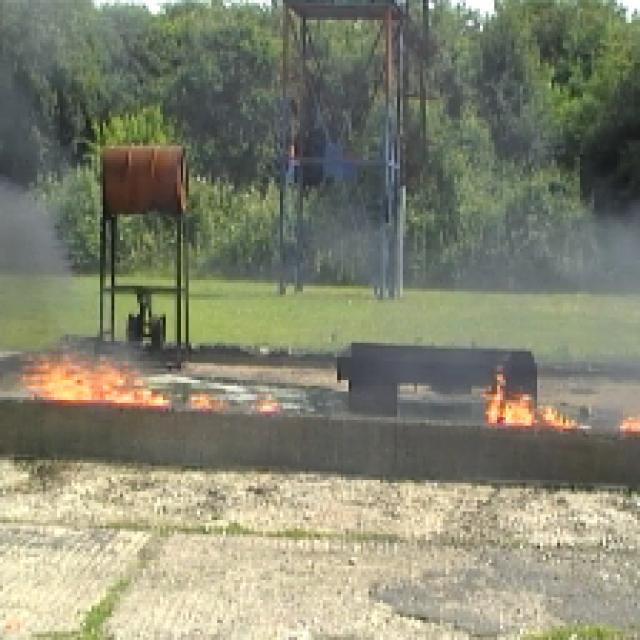fire: (41, 362, 185, 410), (476, 387, 572, 435)
